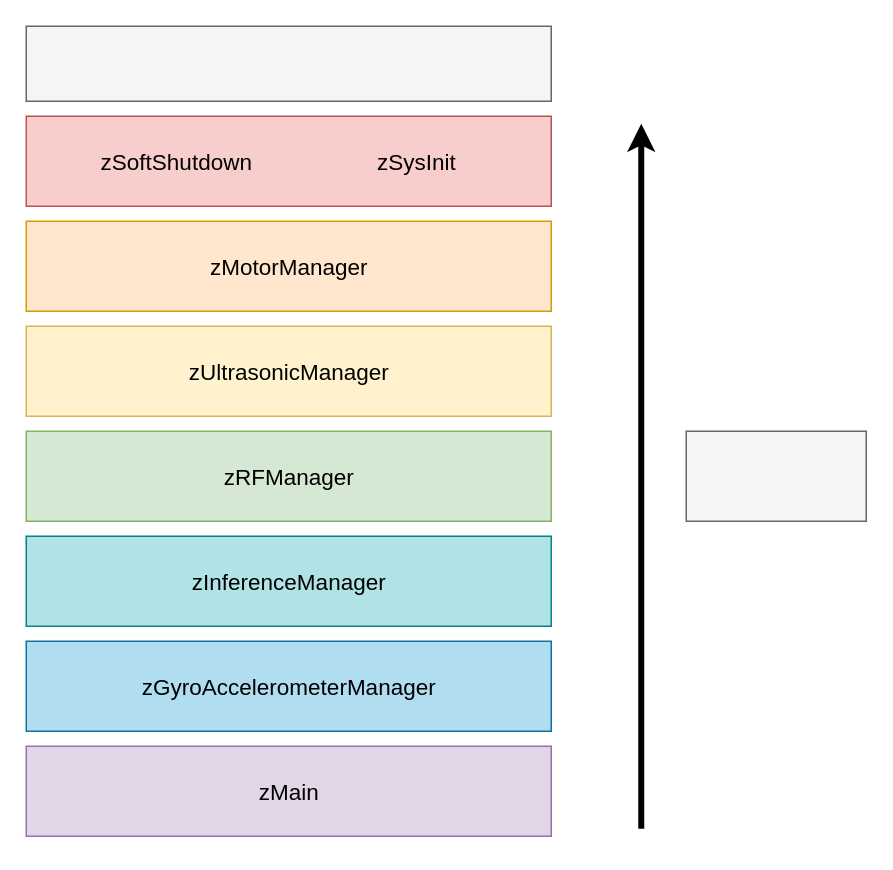
Some shapes in this 893 by 870 pixel diagram are drawn without their labels. Each missing label, with the centre of its shape:
Local: (288,63)
Priority Level: (775,475)
